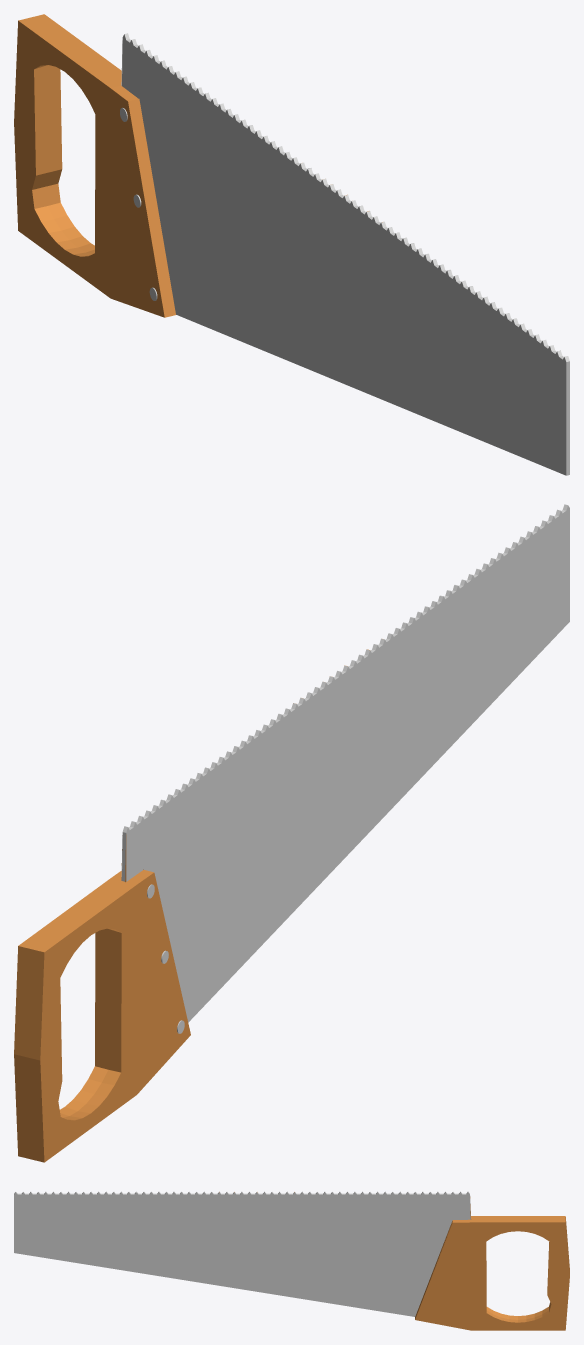
The model's file is saw.fbx.
The picture shows the model from 3 angles, top to bottom: view 1: azimuth 30°, elevation 25°; view 2: azimuth 150°, elevation 25°; view 3: azimuth 270°, elevation 25°; orthographic projection. The views are drawn at different scales.
Visible parts, largest first — view 1: Cube; view 2: Cube; view 3: Cube.
Part boxes in pixels (x1,y1,x2,y2): Cube: (14, 14, 569, 475); Cube: (14, 504, 569, 1162); Cube: (14, 1191, 569, 1330).
Size of the model in its own units: 22.2 by 204 by 758.
